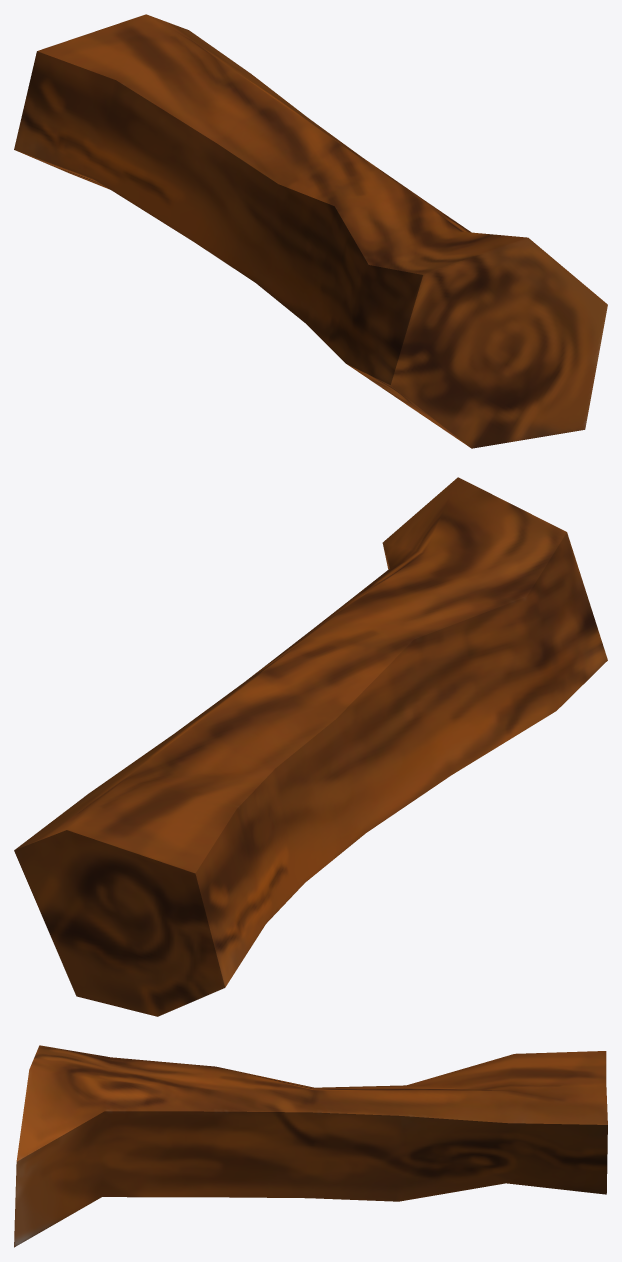
File: assets_same_uvset_tronco_grande.fbx
The picture shows the model from 3 angles, top to bottom: view 1: azimuth 30°, elevation 25°; view 2: azimuth 150°, elevation 25°; view 3: azimuth 270°, elevation 25°; orthographic projection. The views are drawn at different scales.
Visible parts, largest first — view 1: assets_same_uvset:tronco_grande; view 2: assets_same_uvset:tronco_grande; view 3: assets_same_uvset:tronco_grande.
Part boxes in pixels (x1,y1,x2,y2): assets_same_uvset:tronco_grande: (14,14,607,448); assets_same_uvset:tronco_grande: (14,477,607,1016); assets_same_uvset:tronco_grande: (14,1045,607,1247).
Bounding box in the file's own units: 2.42 × 1.98 × 6.68.
Materials: 1 (1 with a texture image).
